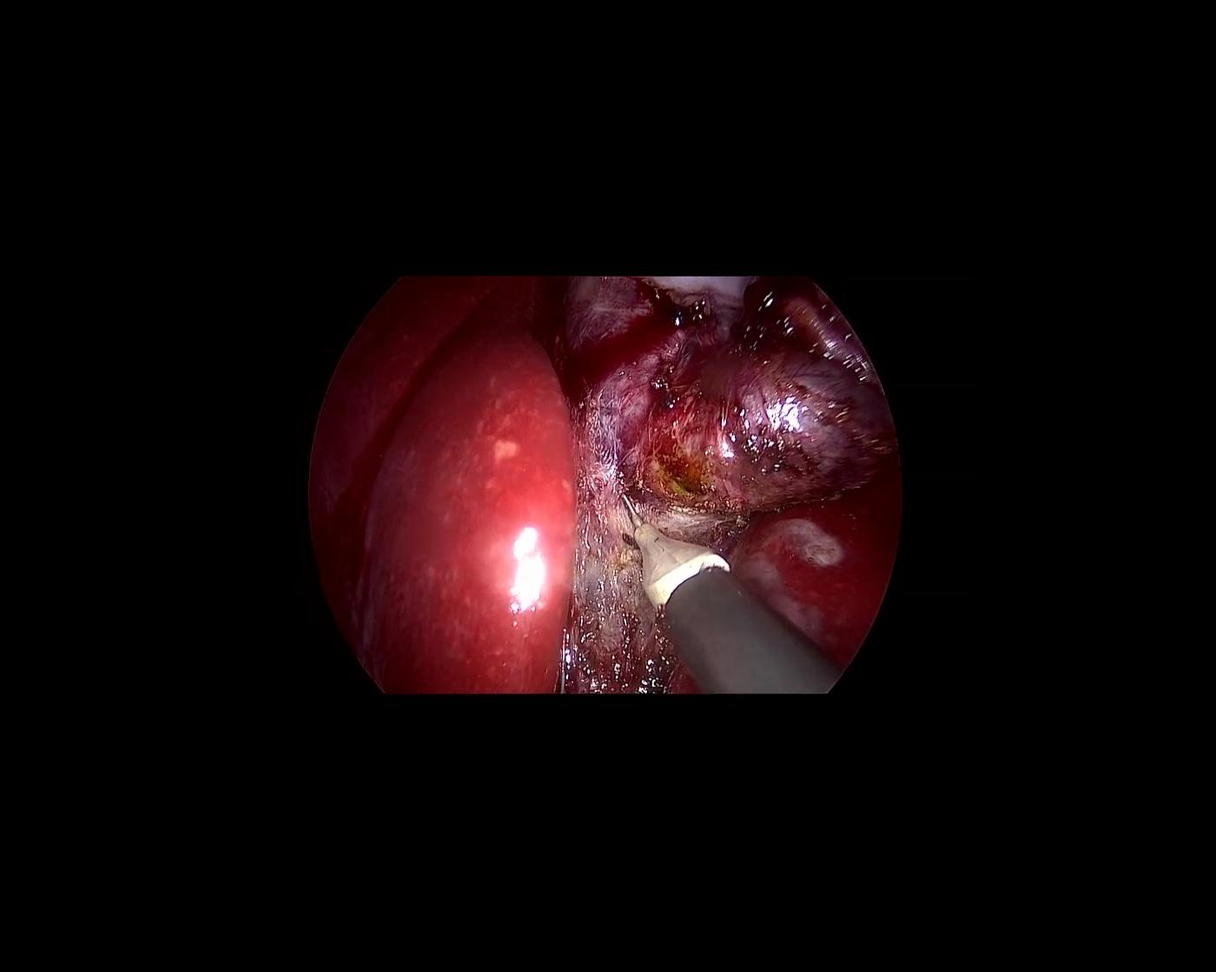Cautery: (559, 470, 845, 750)
Gallbladder: (556, 277, 894, 506)
Liver: (310, 278, 576, 691), (654, 417, 944, 761)
